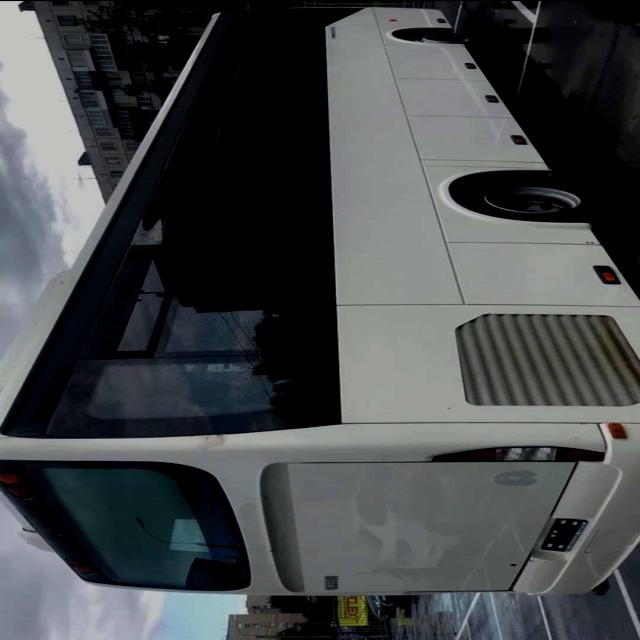bus: (1, 4, 640, 602)
